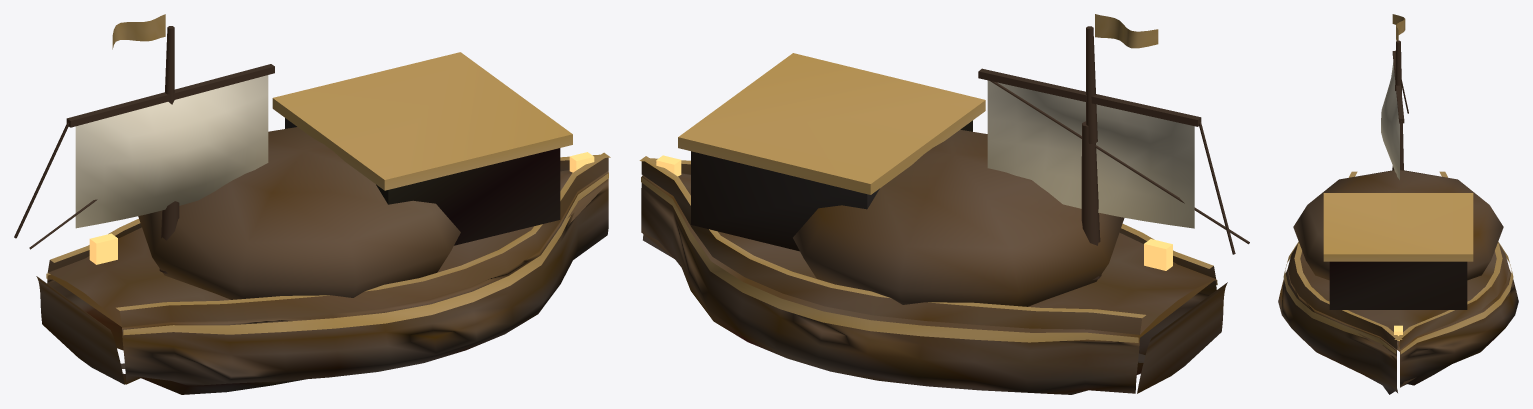
Rendered from garden-hero-bullion.glb.
3 renders of one model, left to right at view 1: azimuth 30°, elevation 25°; view 2: azimuth 150°, elevation 25°; view 3: azimuth 270°, elevation 25°, orthographic. The views are drawn at different scales.
Visible parts, largest first — view 1: wood-hull, trim-hull, sail-hull, spar-hull, glow-hull; view 2: wood-hull, trim-hull, sail-hull, spar-hull, glow-hull; view 3: wood-hull, trim-hull, sail-hull, spar-hull.
Part boxes in pixels (x1=…): wood-hull: x1=36, y1=14, x2=610, y2=394; trim-hull: x1=46, y1=52, x2=608, y2=335; sail-hull: x1=75, y1=75, x2=268, y2=228; spar-hull: x1=14, y1=26, x2=274, y2=273; glow-hull: x1=89, y1=152, x2=594, y2=264; wood-hull: x1=639, y1=14, x2=1227, y2=394; trim-hull: x1=641, y1=53, x2=1217, y2=342; sail-hull: x1=987, y1=80, x2=1194, y2=228; spar-hull: x1=978, y1=26, x2=1249, y2=279; glow-hull: x1=656, y1=155, x2=1172, y2=270; wood-hull: x1=1278, y1=14, x2=1518, y2=394; trim-hull: x1=1283, y1=193, x2=1513, y2=354; sail-hull: x1=1381, y1=62, x2=1399, y2=179; spar-hull: x1=1392, y1=40, x2=1408, y2=170.
Size of the model in its own units: 9.19 by 5.8 by 4.9.
